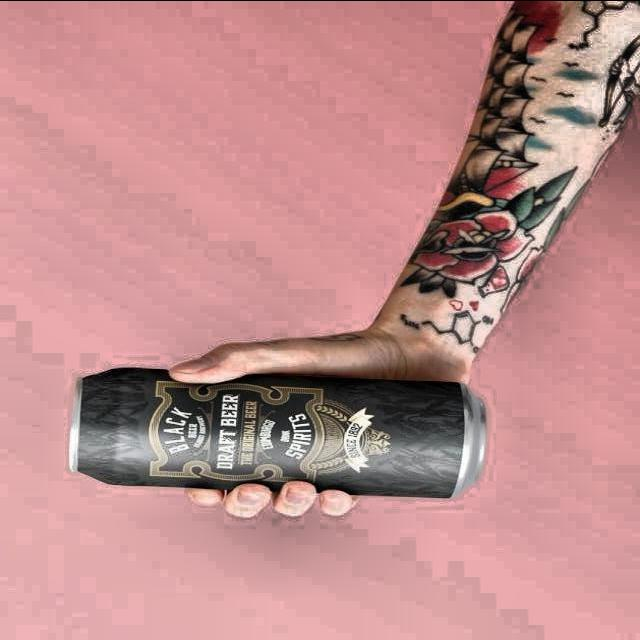Aluminum Can: (55, 364, 490, 503)
